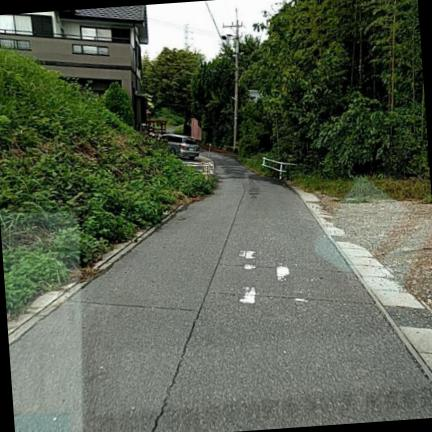Road: (9, 154, 431, 431)
